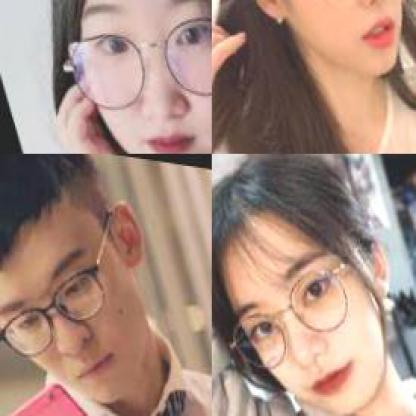Glasses: (212, 218, 390, 398), (0, 183, 148, 376), (54, 0, 211, 151), (266, 0, 414, 40)
